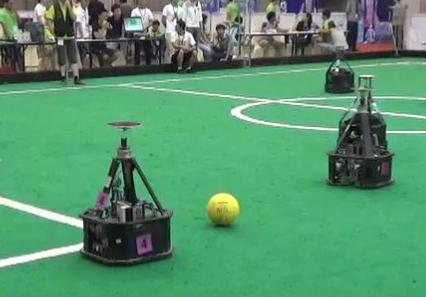robot: (73, 113, 186, 268), (322, 72, 400, 191)
